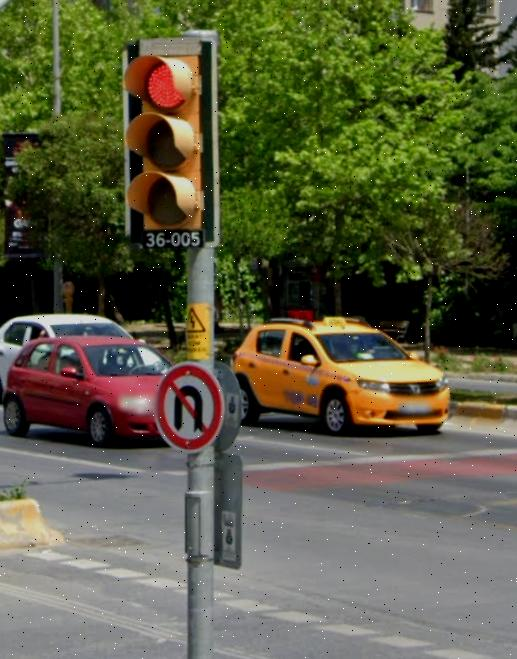redlight: (122, 33, 207, 235)
